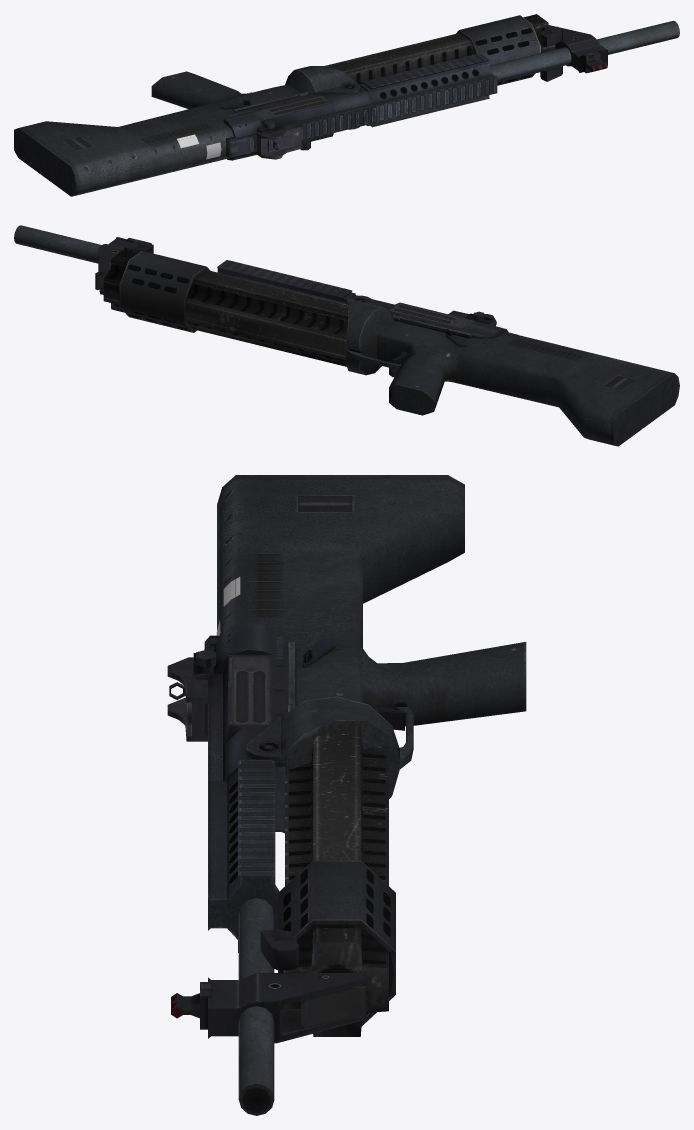
File: t6_wpn_shotty_srm1216_world_LOD0.obj
3 renders of one model, top to bottom at view 1: azimuth 30°, elevation 25°; view 2: azimuth 150°, elevation 25°; view 3: azimuth 270°, elevation 25°, orthographic. The views are drawn at different scales.
Parts seen in each view (by area): view 1: mtl_t6_wpn_shotty_srm1216_camo1, mtl_t6_wpn_shotty_srm1216_camo4, mtl_t6_wpn_shotty_srm1216_camo2, mtl_t6_wpn_shotty_srm1216_camo3; view 2: mtl_t6_wpn_shotty_srm1216_camo1, mtl_t6_wpn_shotty_srm1216_camo3, mtl_t6_wpn_shotty_srm1216_camo4, mtl_t6_wpn_shotty_srm1216_camo2; view 3: mtl_t6_wpn_shotty_srm1216_camo1, mtl_t6_wpn_shotty_srm1216_camo3, mtl_t6_wpn_shotty_srm1216_camo2, mtl_t6_wpn_shotty_srm1216_camo4.
Boxes of the visible parts, x1,y1,x2,y2 form: mtl_t6_wpn_shotty_srm1216_camo1: [14, 15, 607, 196]; mtl_t6_wpn_shotty_srm1216_camo4: [220, 26, 607, 154]; mtl_t6_wpn_shotty_srm1216_camo2: [223, 20, 679, 160]; mtl_t6_wpn_shotty_srm1216_camo3: [325, 14, 555, 84]; mtl_t6_wpn_shotty_srm1216_camo1: [98, 237, 679, 446]; mtl_t6_wpn_shotty_srm1216_camo3: [103, 249, 348, 366]; mtl_t6_wpn_shotty_srm1216_camo4: [95, 239, 484, 377]; mtl_t6_wpn_shotty_srm1216_camo2: [14, 225, 508, 338]; mtl_t6_wpn_shotty_srm1216_camo1: [169, 475, 526, 1043]; mtl_t6_wpn_shotty_srm1216_camo3: [285, 725, 388, 1036]; mtl_t6_wpn_shotty_srm1216_camo2: [167, 622, 287, 1115]; mtl_t6_wpn_shotty_srm1216_camo4: [187, 638, 366, 1029].
Bounding box in the file's own units: 84.16 × 8.67 × 21.44.
